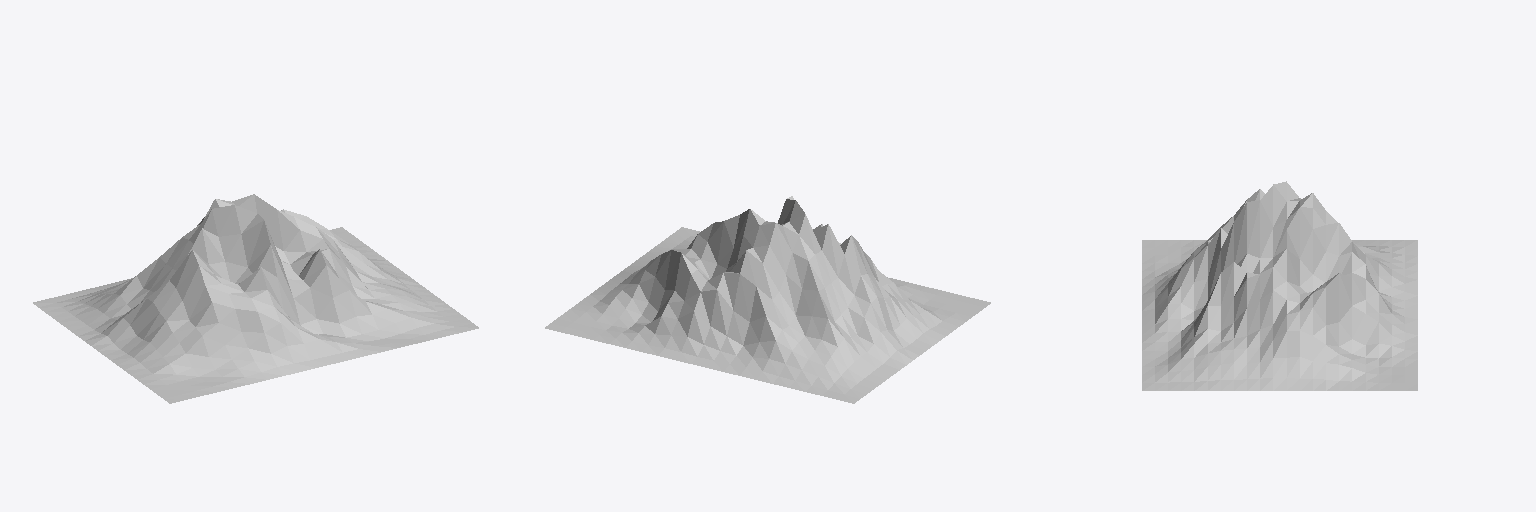
Rendered from mountain_light.obj.
3 views of the same model, side by side, from view 1: azimuth 30°, elevation 25°; view 2: azimuth 150°, elevation 25°; view 3: azimuth 270°, elevation 25° (orthographic).
Visible parts, largest first — view 1: mountain; view 2: mountain; view 3: mountain.
Part boxes in pixels (bbox=[...]): mountain: bbox=[33, 194, 478, 403]; mountain: bbox=[545, 196, 990, 403]; mountain: bbox=[1142, 181, 1417, 390].
Size of the model in its own units: 553 by 203 by 427.